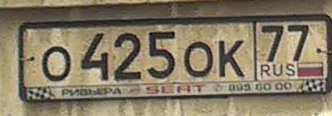character: (79, 30, 111, 83), (146, 29, 178, 82), (114, 30, 143, 80), (216, 38, 248, 81), (185, 38, 214, 82), (42, 45, 74, 82), (261, 22, 285, 64), (287, 20, 310, 61)
